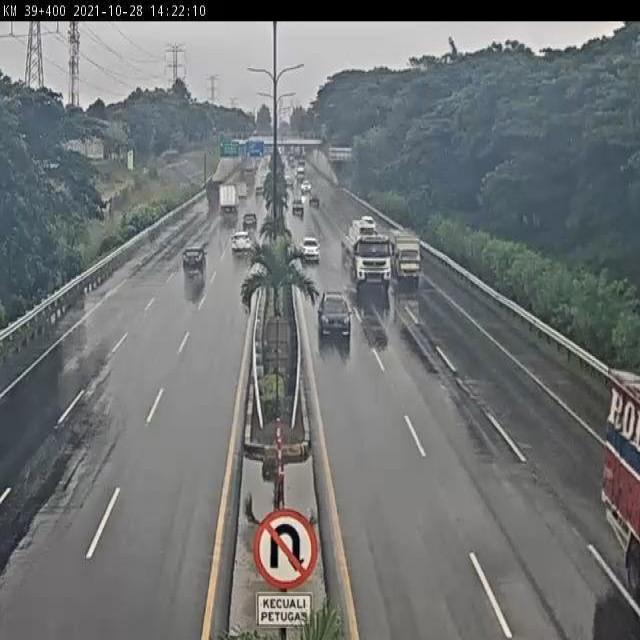car: (319, 285, 353, 340), (180, 242, 206, 278), (297, 232, 322, 263), (229, 228, 255, 257)
truck-s-: (386, 222, 423, 286)
truck-xl-: (339, 216, 393, 293)
